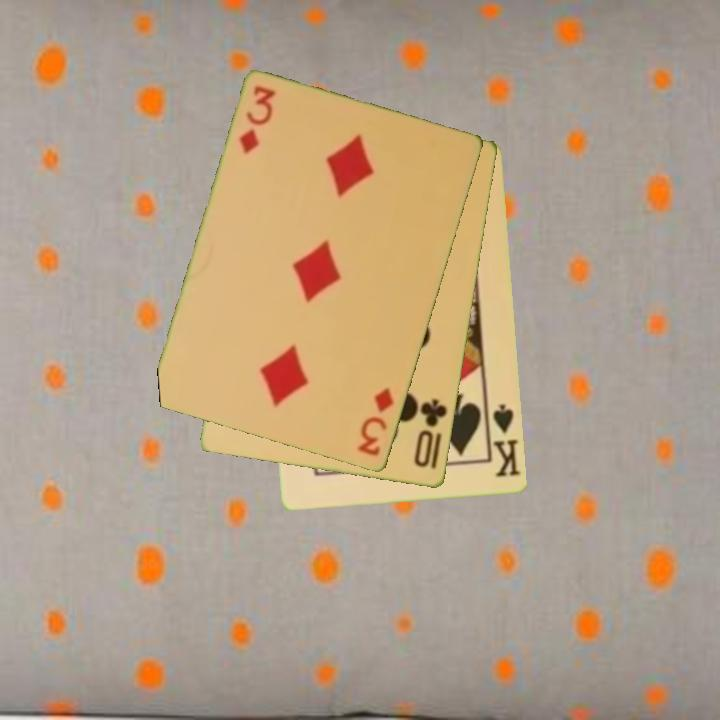10c: (411, 396, 450, 471)
3d: (354, 384, 398, 460), (236, 82, 279, 157)
Ks: (490, 400, 524, 480)
